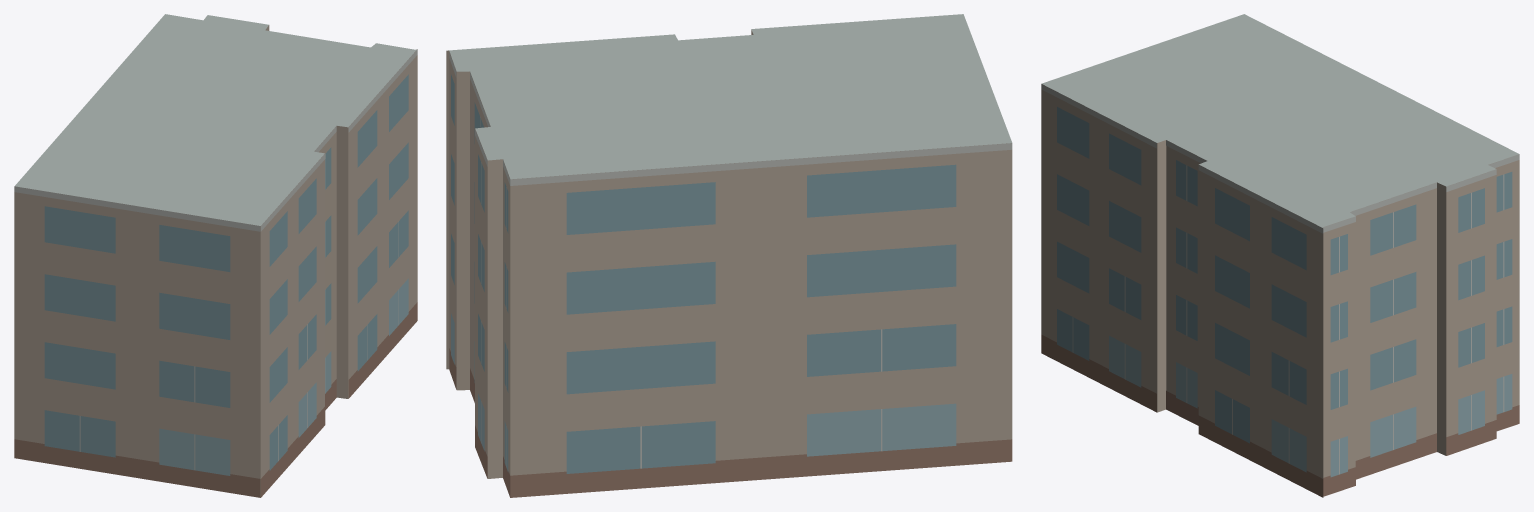
Rendered from survey-upis-32823668.glb.
3 renders of one model, left to right at view 1: azimuth 30°, elevation 25°; view 2: azimuth 150°, elevation 25°; view 3: azimuth 270°, elevation 25°, orthographic. The views are drawn at different scales.
Parts seen in each view (by area): view 1: survey-upis-32823668.tmp; view 2: survey-upis-32823668.tmp; view 3: survey-upis-32823668.tmp.
Part boxes in pixels (<box>): survey-upis-32823668.tmp: <box>14,14,417,497</box>; survey-upis-32823668.tmp: <box>446,14,1012,497</box>; survey-upis-32823668.tmp: <box>1041,14,1519,497</box>.
Bounding box in the file's own units: 19.64 × 11.51 × 18.52.
